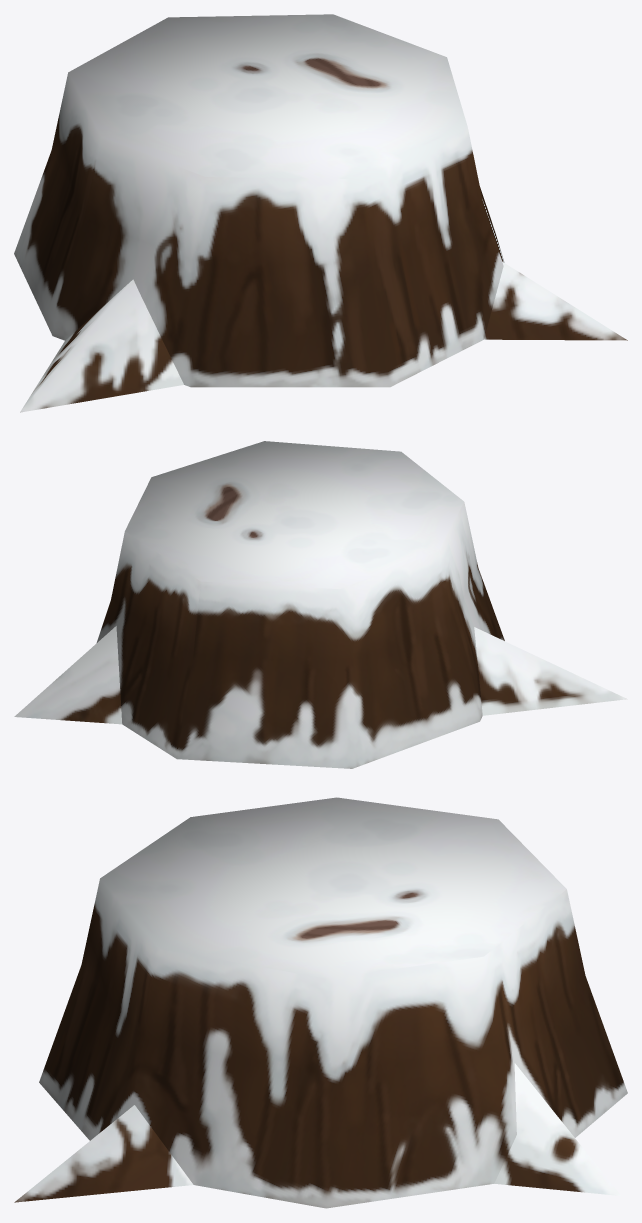
The model's file is SnowTruncatedTree_01_001.FBX.
The picture shows the model from 3 angles, top to bottom: view 1: azimuth 30°, elevation 25°; view 2: azimuth 150°, elevation 25°; view 3: azimuth 270°, elevation 25°; orthographic projection. The views are drawn at different scales.
Visible parts, largest first — view 1: SnowTruncatedTree_01_001; view 2: SnowTruncatedTree_01_001; view 3: SnowTruncatedTree_01_001.
Boxes of the visible parts, box(x1,y1,x2,y2) form: SnowTruncatedTree_01_001: box(14, 14, 627, 412); SnowTruncatedTree_01_001: box(14, 441, 627, 768); SnowTruncatedTree_01_001: box(14, 797, 627, 1208).
Bounding box in the file's own units: 6.49 × 2.15 × 5.86.
